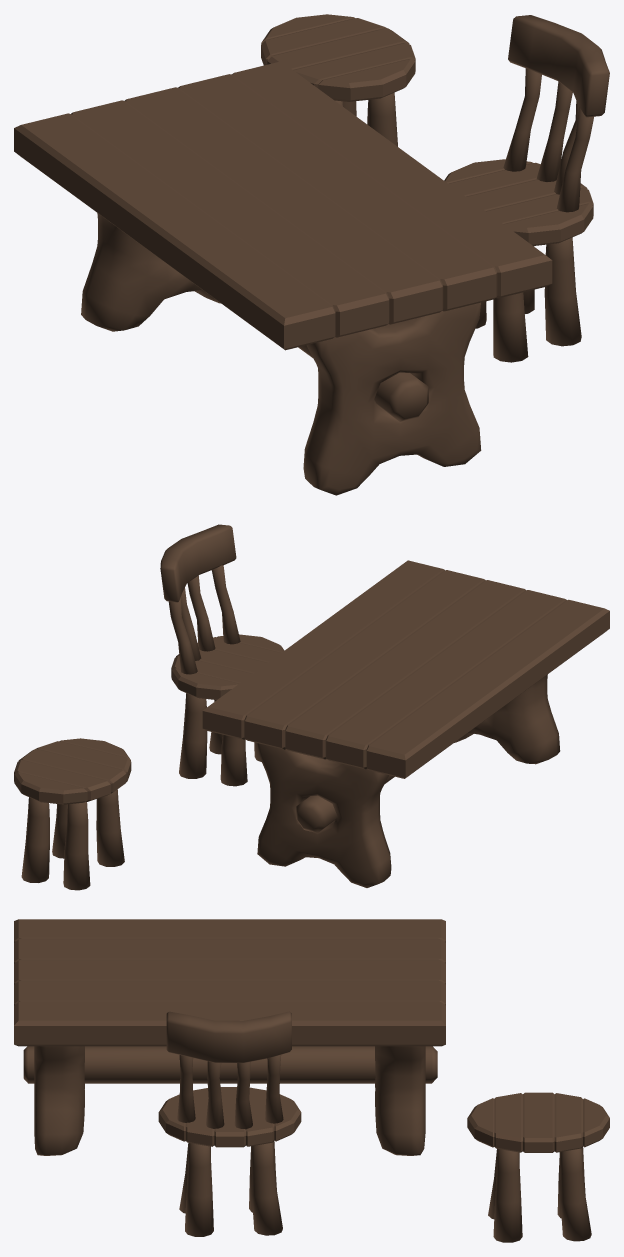
Rendered from mesauvs-silla-taburete 1.fbx.
The picture shows the model from 3 angles, top to bottom: view 1: azimuth 30°, elevation 25°; view 2: azimuth 150°, elevation 25°; view 3: azimuth 270°, elevation 25°; orthographic projection. The views are drawn at different scales.
Parts seen in each view (by area): view 1: Cube, Cube.001, Cylinder.006, Cylinder.002, Cube.002, Cylinder.001, Cylinder.005, Cylinder, Cylinder.014, Cylinder.011, Cylinder.013, Cylinder.007; view 2: Cube, Cube.001, Cylinder.006, Cylinder.002, Cube.002, Cylinder.009, Cylinder.008, Cylinder.003, Cylinder.010, Cylinder.004, Cylinder, Cylinder.011 (+4 smaller); view 3: Cube, Cube.001, Cylinder, Cylinder.006, Cube.002, Cylinder.002, Cylinder.007, Cylinder.001, Cylinder.003, Cylinder.008, Cylinder.014, Cylinder.012 (+2 smaller).
Boxes of the visible parts, x1,y1,x2,y2 form: Cube: [14, 61, 552, 350]; Cube.001: [81, 213, 481, 495]; Cylinder.006: [261, 14, 415, 101]; Cylinder.002: [444, 159, 593, 245]; Cube.002: [508, 15, 609, 117]; Cylinder.001: [544, 237, 581, 346]; Cylinder.005: [493, 292, 528, 362]; Cylinder: [298, 345, 428, 421]; Cylinder.014: [503, 68, 541, 171]; Cylinder.011: [556, 107, 593, 212]; Cylinder.013: [536, 81, 572, 181]; Cylinder.007: [367, 92, 397, 146]; Cube: [202, 560, 609, 778]; Cube.001: [257, 674, 560, 887]; Cylinder.006: [14, 738, 131, 804]; Cylinder.002: [171, 634, 284, 699]; Cube.002: [160, 524, 236, 602]; Cylinder.009: [63, 802, 90, 890]; Cylinder.008: [21, 797, 49, 882]; Cylinder.003: [179, 693, 207, 778]; Cylinder.010: [96, 789, 124, 866]; Cylinder.004: [220, 735, 247, 786]; Cylinder: [296, 775, 394, 833]; Cylinder.011: [211, 565, 240, 644]; Cube: [14, 919, 445, 1046]; Cube.001: [34, 1046, 425, 1155]; Cylinder: [23, 1046, 437, 1083]; Cylinder.006: [467, 1092, 609, 1152]; Cube.002: [166, 1011, 291, 1062]; Cylinder.002: [158, 1087, 301, 1147]; Cylinder.007: [493, 1149, 522, 1242]; Cylinder.001: [185, 1143, 213, 1236]; Cylinder.003: [251, 1142, 282, 1235]; Cylinder.008: [560, 1148, 591, 1241]; Cylinder.014: [265, 1055, 283, 1123]; Cylinder.012: [206, 1061, 224, 1128].
Bounding box in the file's own units: 450 × 273 × 653.
